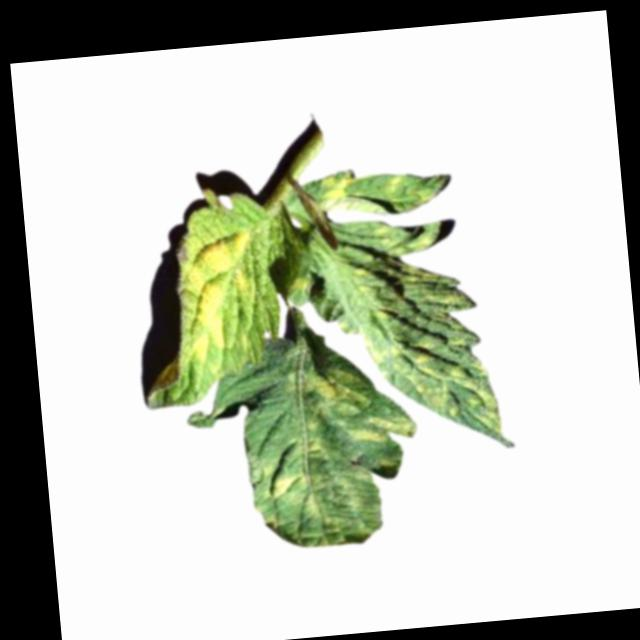Leaf_Mold: (336, 208, 504, 449), (177, 231, 264, 368), (303, 365, 415, 450), (260, 464, 318, 527), (318, 176, 351, 208)
